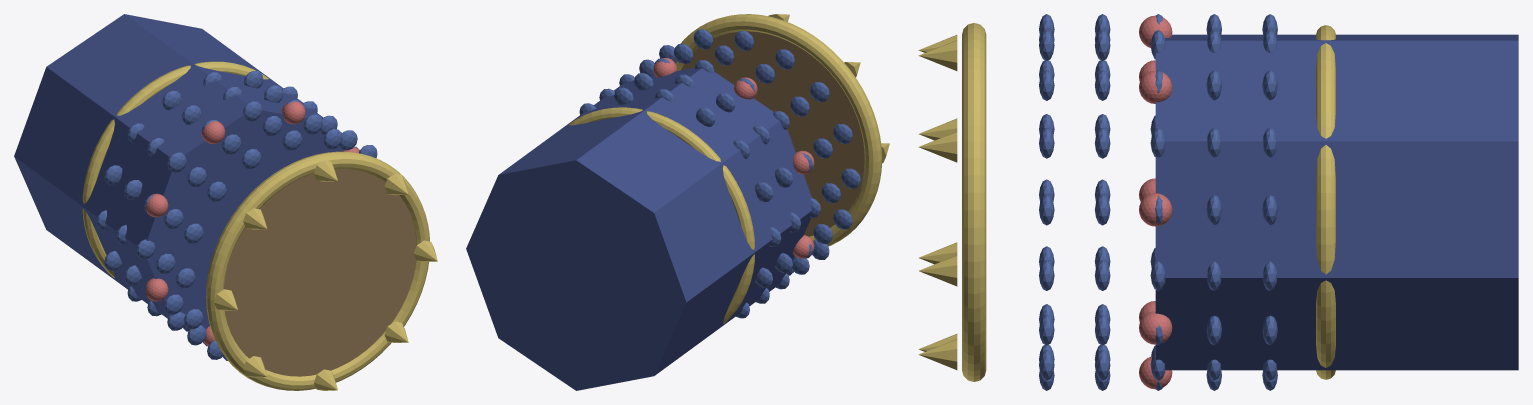
Rendered from pot_epic_2.glb.
3 renders of one model, left to right at view 1: azimuth 30°, elevation 25°; view 2: azimuth 150°, elevation 25°; view 3: azimuth 270°, elevation 25°, orthographic. The views are drawn at different scales.
Parts seen in each view (by area): view 1: world; view 2: world; view 3: world.
Part boxes in pixels (x1,y1,x2,y2): world: (14,14,437,390); world: (466,14,889,390); world: (918,14,1518,390).
Size of the model in its own units: 6.76 by 6.76 by 10.75.
